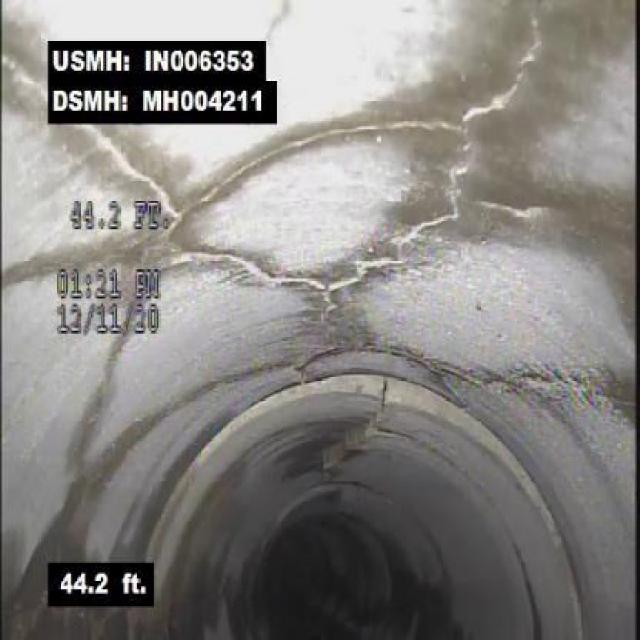Buckling: (303, 369, 426, 477)
Crack: (378, 38, 531, 280), (203, 223, 360, 328), (463, 348, 634, 420)
